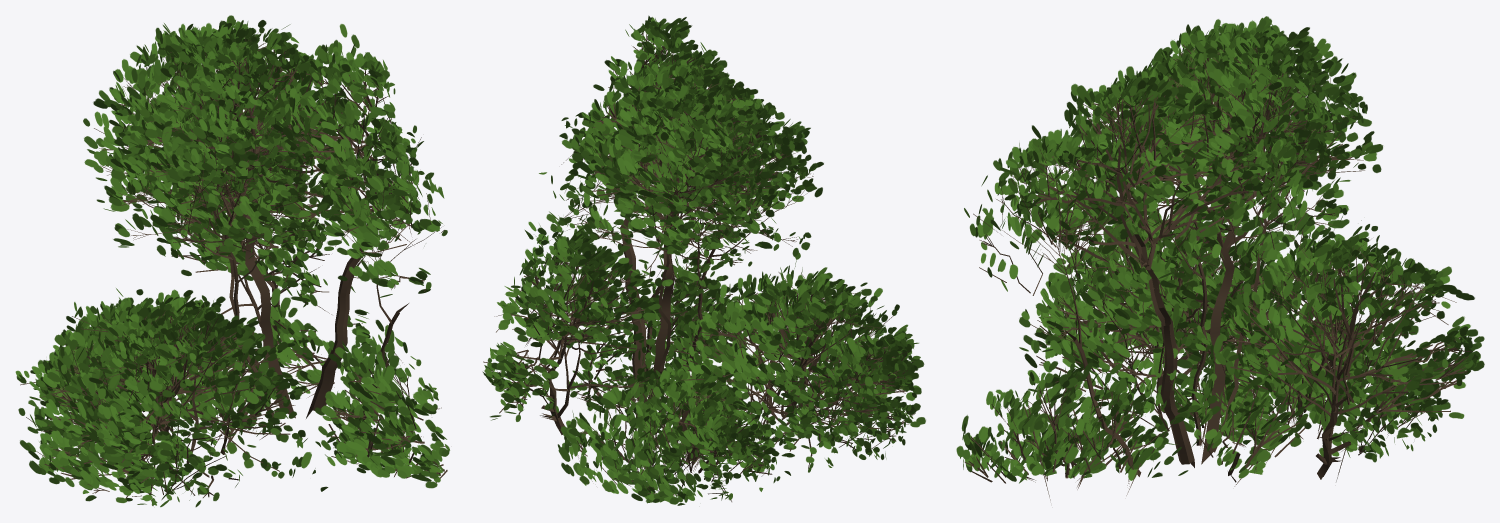
3 views of the same model, side by side, from view 1: azimuth 30°, elevation 25°; view 2: azimuth 150°, elevation 25°; view 3: azimuth 270°, elevation 25° (orthographic). The views are drawn at different scales.
Parts seen in each view (by area): view 1: oak 01.001_trunk_Mat.001_0.303; view 2: oak 01.001_trunk_Mat.001_0.303; view 3: oak 01.001_trunk_Mat.001_0.303.
Boxes of the visible parts, x1,y1,x2,y2 form: oak 01.001_trunk_Mat.001_0.303: [15, 15, 449, 507]; oak 01.001_trunk_Mat.001_0.303: [482, 15, 925, 505]; oak 01.001_trunk_Mat.001_0.303: [956, 16, 1484, 500].
Size of the model in its own units: 4.05 by 4.61 by 5.12.
Materials: 2 (1 with a texture image).
